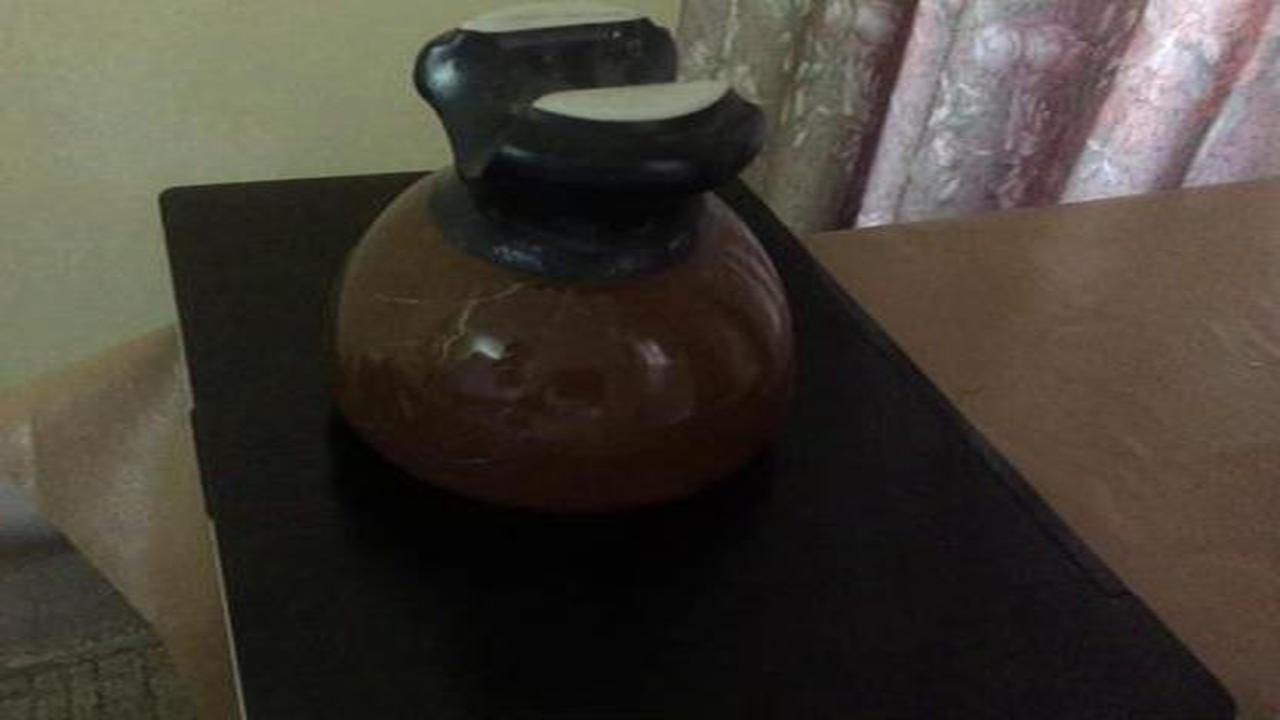insulator_pin: (314, 11, 801, 534)
